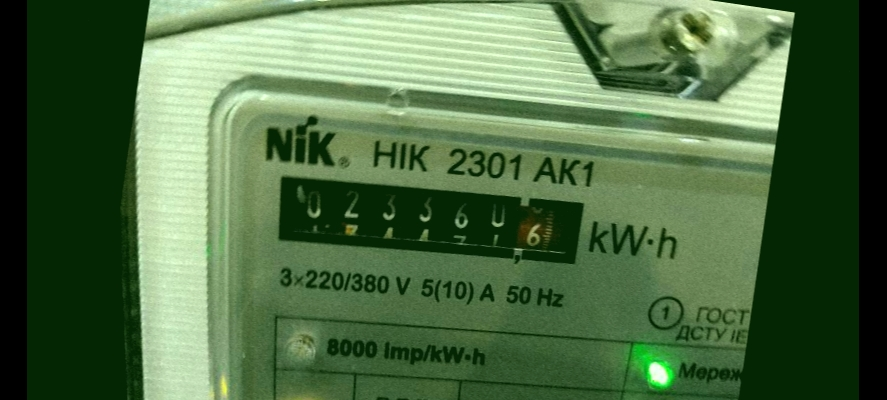0: (300, 185, 327, 221), (484, 197, 510, 231)
2: (340, 185, 364, 221)
3: (414, 189, 437, 224), (376, 190, 399, 223)
6: (448, 196, 474, 232), (521, 216, 547, 251)
screen: (254, 148, 602, 291)
